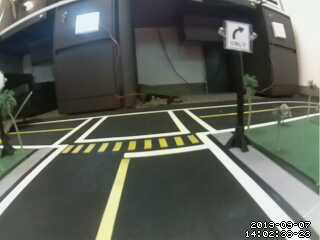Right_only_sign: (222, 19, 252, 53)
